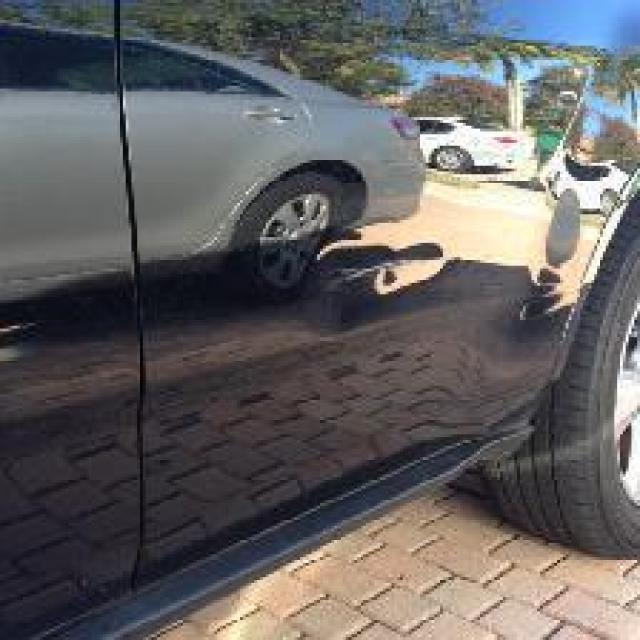damaged: (280, 263, 586, 440)
